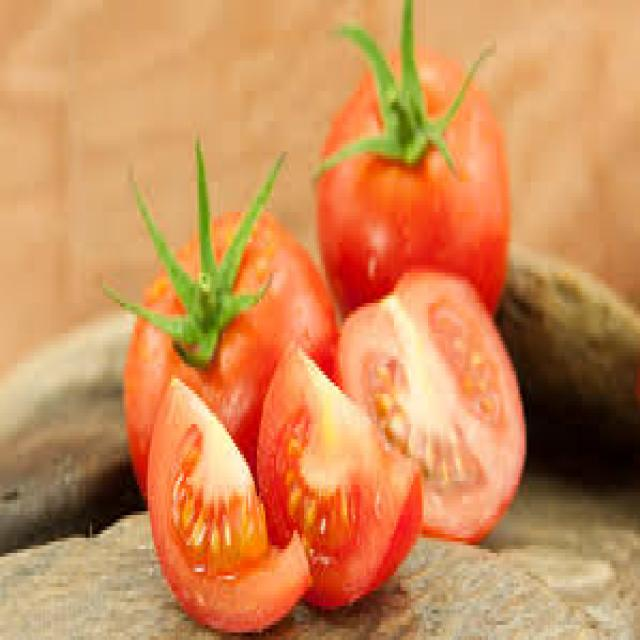Tomato: (97, 144, 342, 527), (315, 4, 511, 360), (335, 265, 530, 552), (255, 336, 425, 618), (145, 374, 315, 640)
